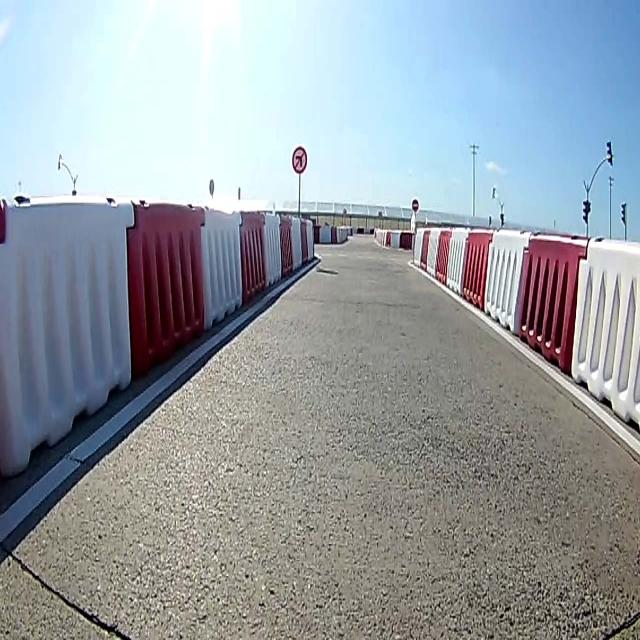girisyok: (411, 195, 419, 210)
soladonulmez: (292, 145, 307, 172)
